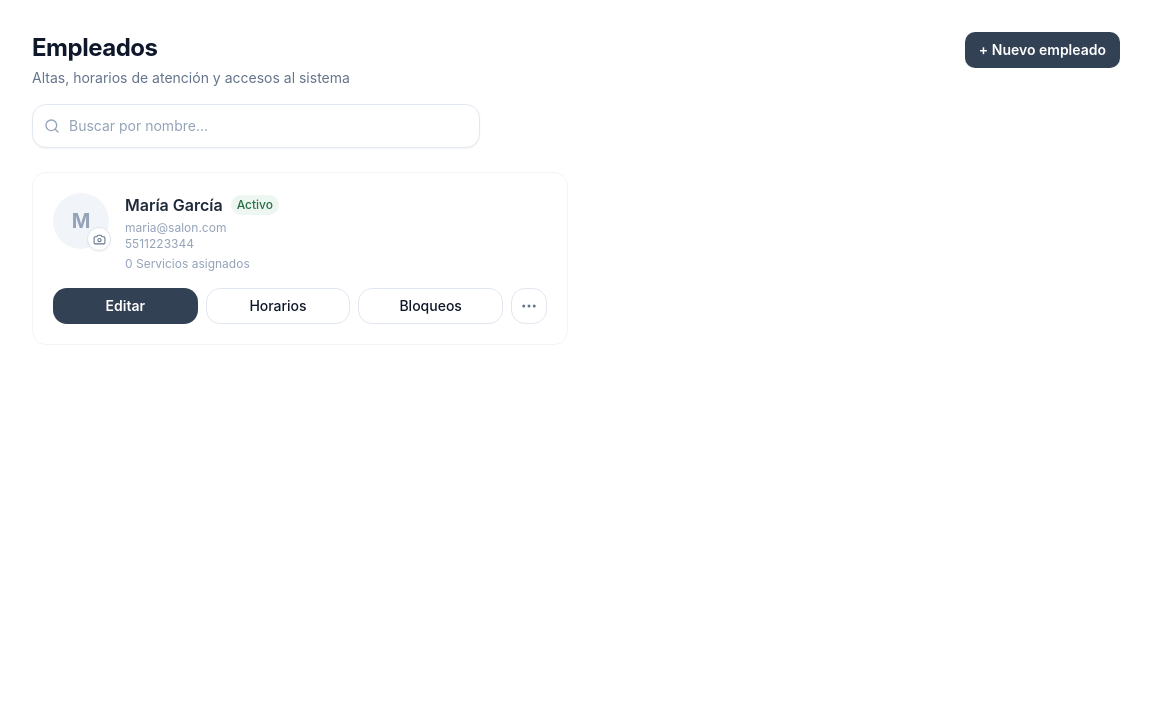
it: EmpleadosPage — desactivar y reactivar (B13) › desde el diálogo de eliminar, Desactivar es la acción principal aunque haya citas
Click the button named "Más acciones de María García". click: [529, 306]
box: [511,288,547,324]
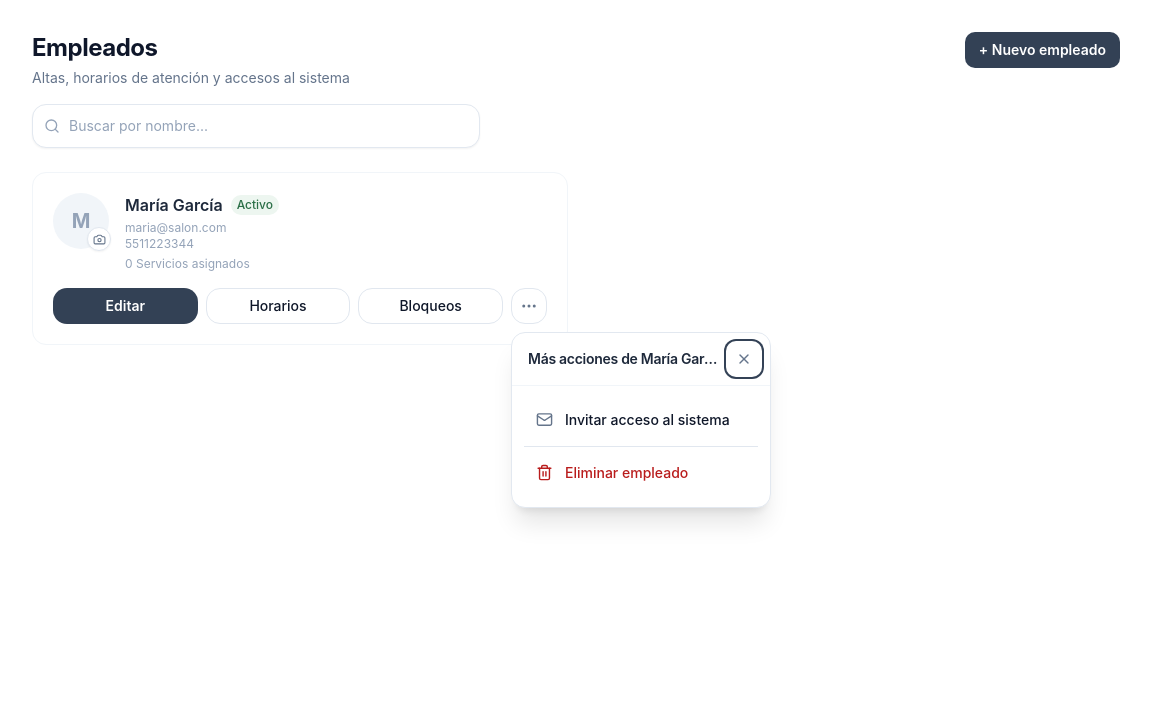
Click the button "Eliminar empleado". click: [641, 473]
box: [524,451,758,495]
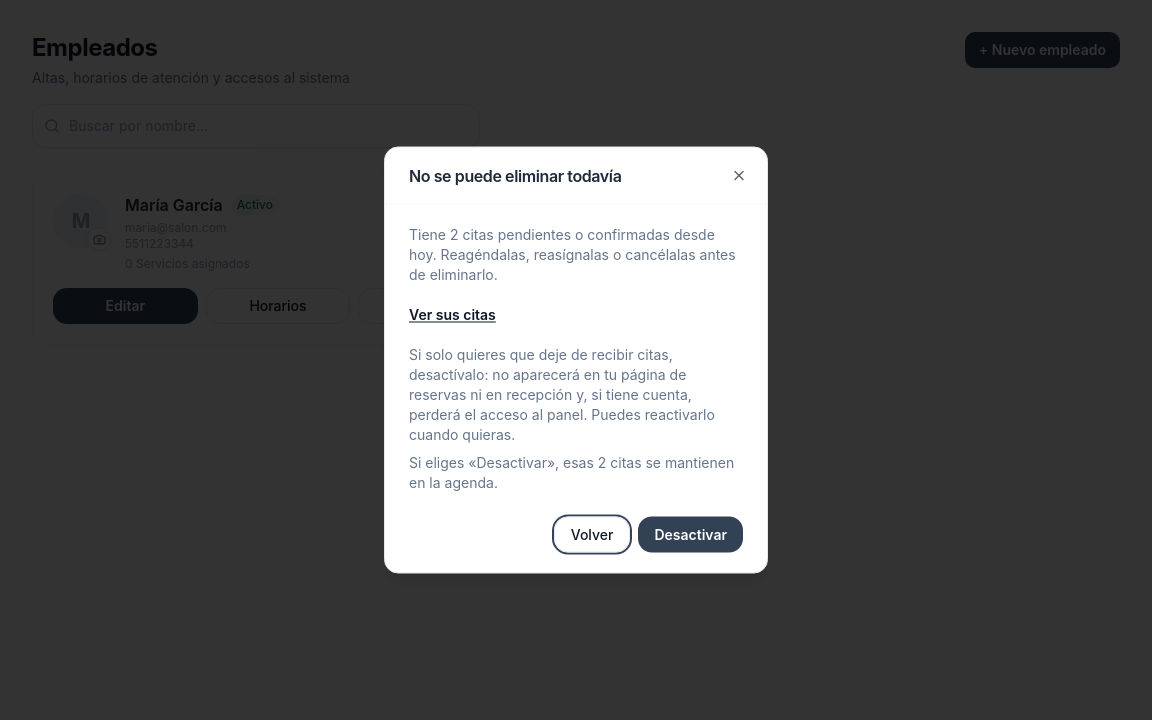
Expected: the dialog "No se puede eliminar todavía" shows "perderá el acceso al panel", [409,346,715,442]
Click the button "Desactivar". click: [691, 534]
box: [638,516,743,552]
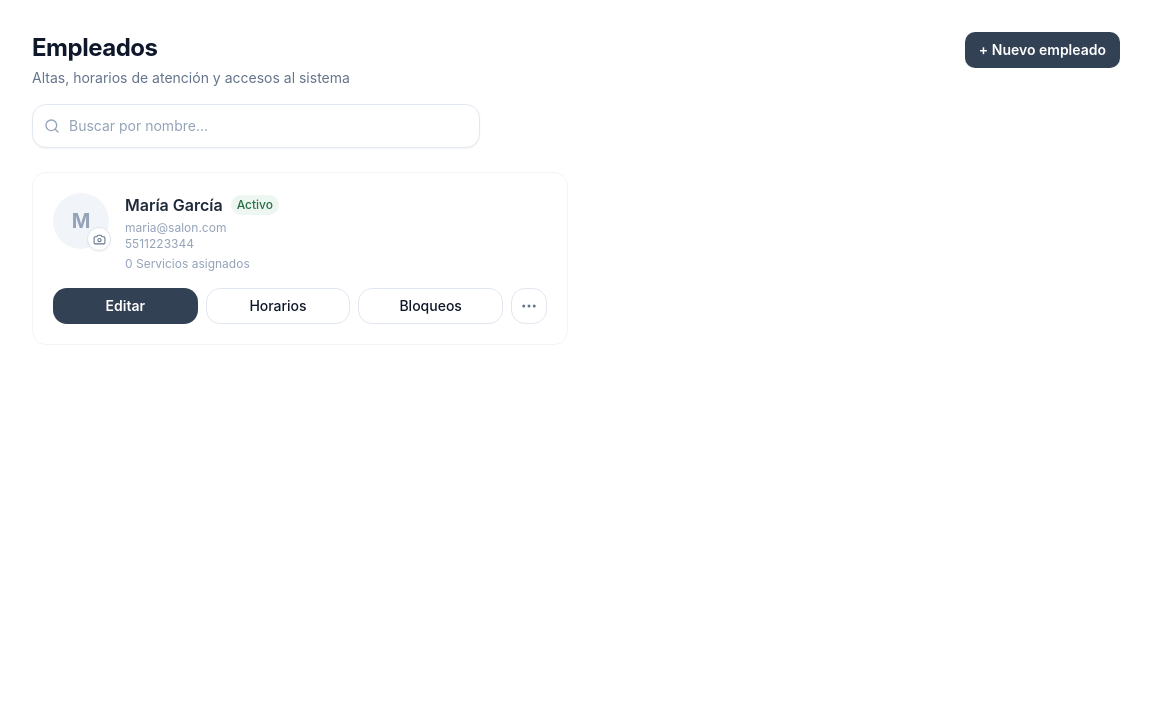
Expected: the dialog is gone
